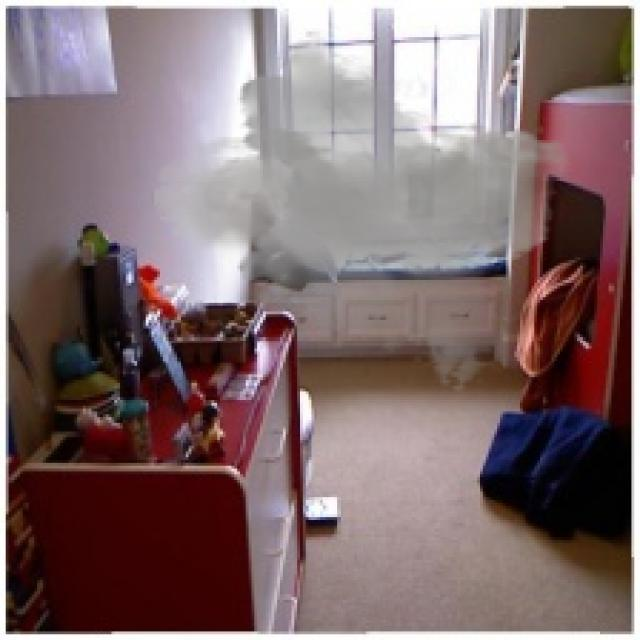smoke: (152, 29, 572, 394)
